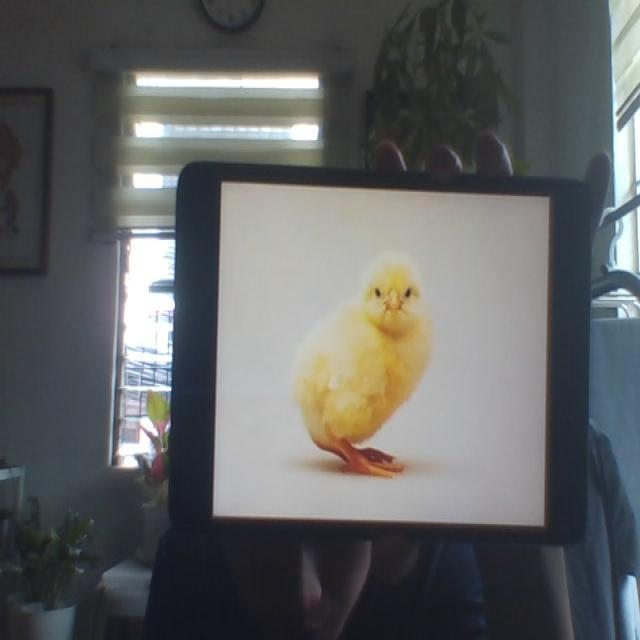Healthy: (298, 258, 432, 476)
